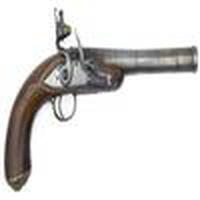gun: (1, 43, 200, 189)
